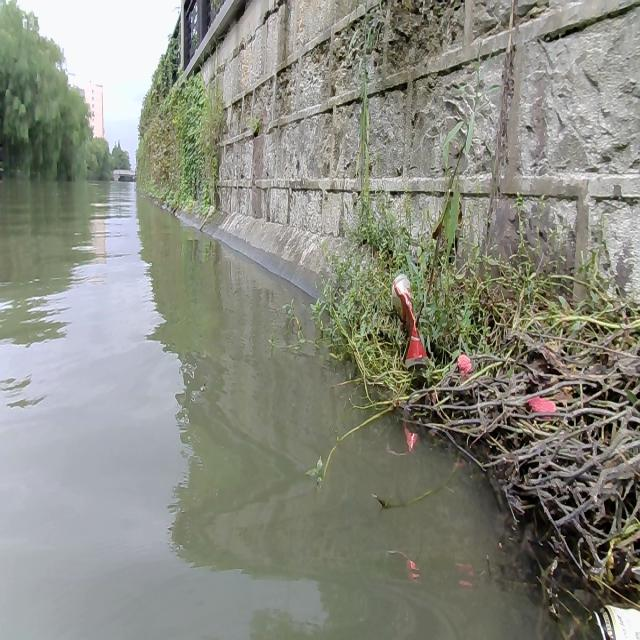bottle: (390, 271, 430, 371)
